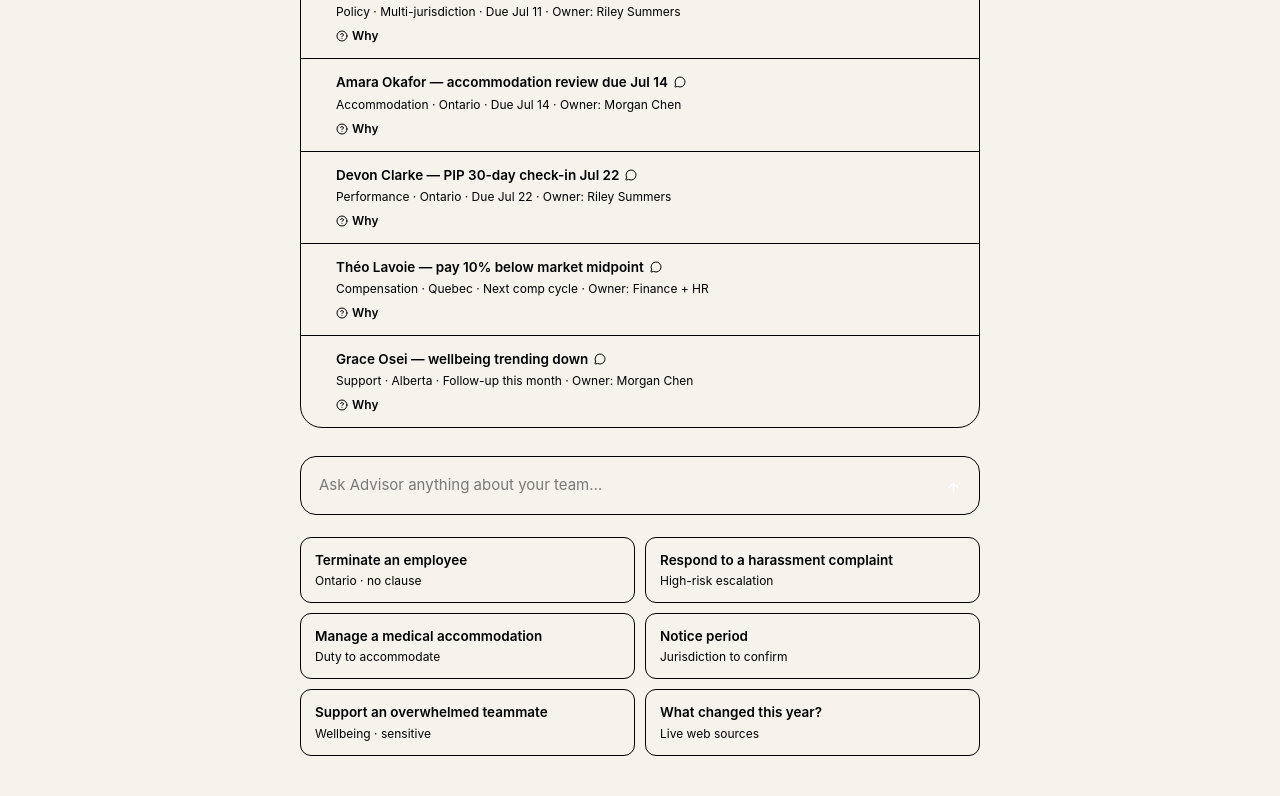
Test: AdvisorView › with fake timers › routes a signed-out home-composer crisis message to the support thread, not a scenario
(page scrolled)
Type "I feel suicidal" into the text box with placeholder "Ask Advisor anything about your team…" at (622, 486), box [319,465,925,506]
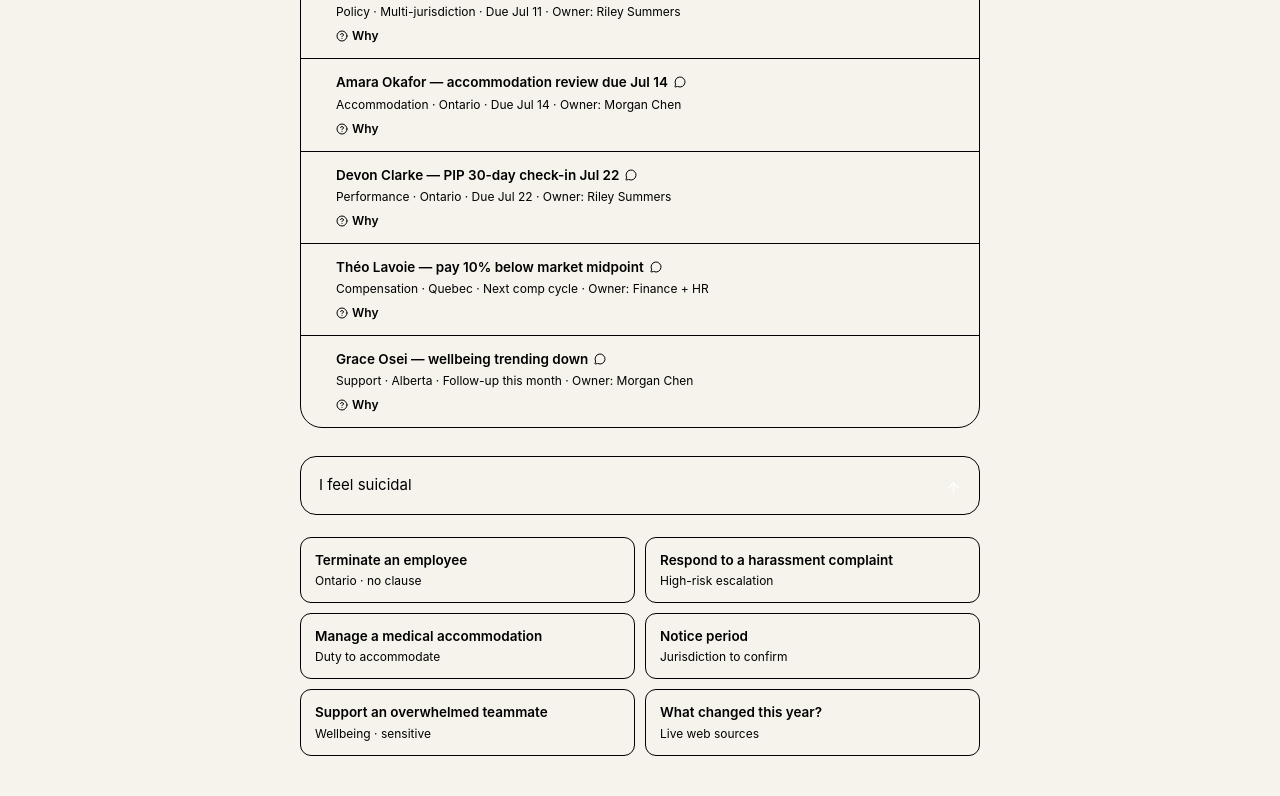
Press Enter in the text box with placeholder "Ask Advisor anything about your team…", box [319,465,925,506]
Wait 8849 ms
(page scrolled)
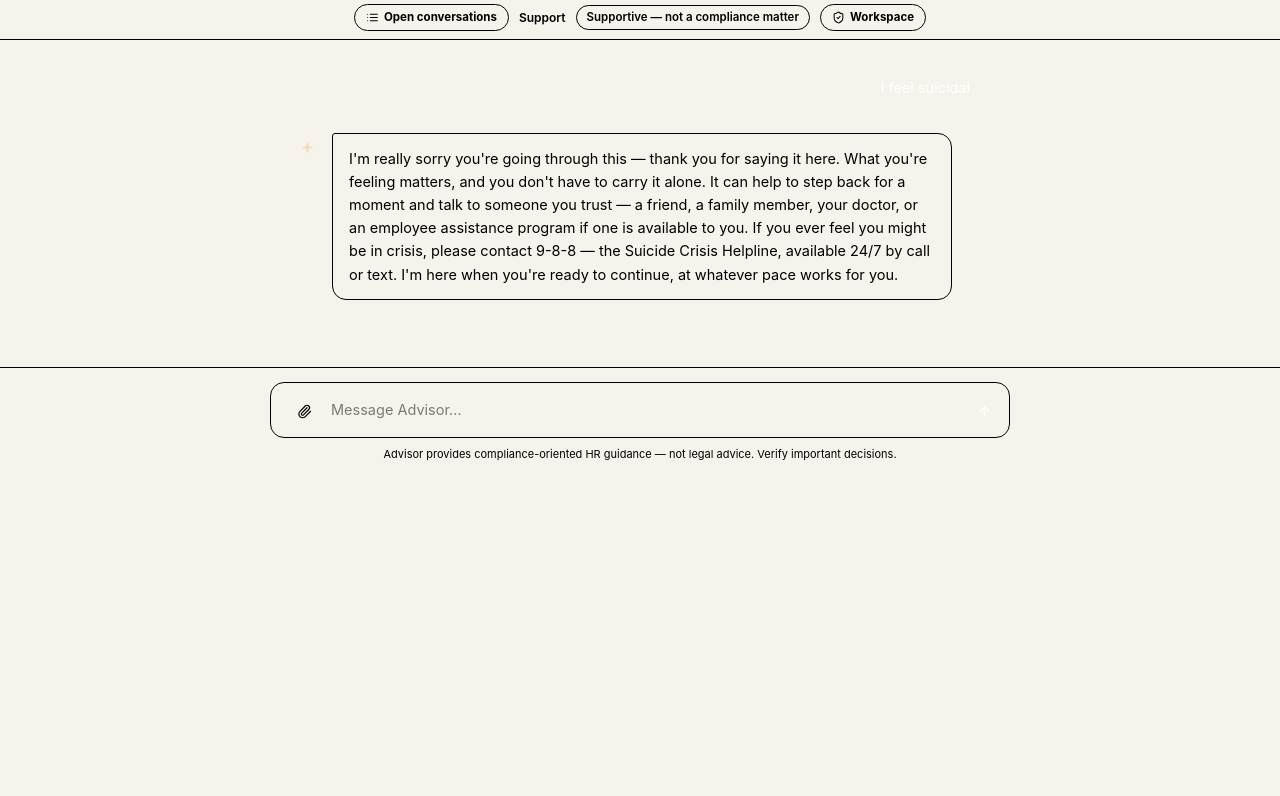
Expected: the text "Support" is shown, [519,9,566,27]
Now the text "please contact 9-8-8" is shown, box [349,150,930,283]
